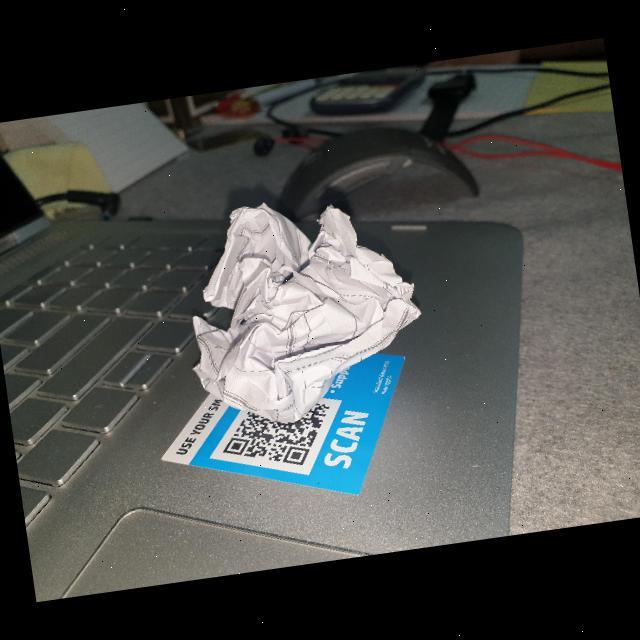trash: (162, 172, 452, 441)
